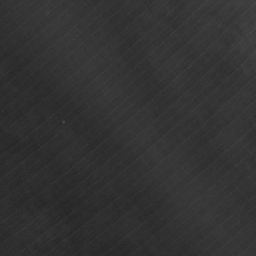Target: (60, 119, 66, 125)
